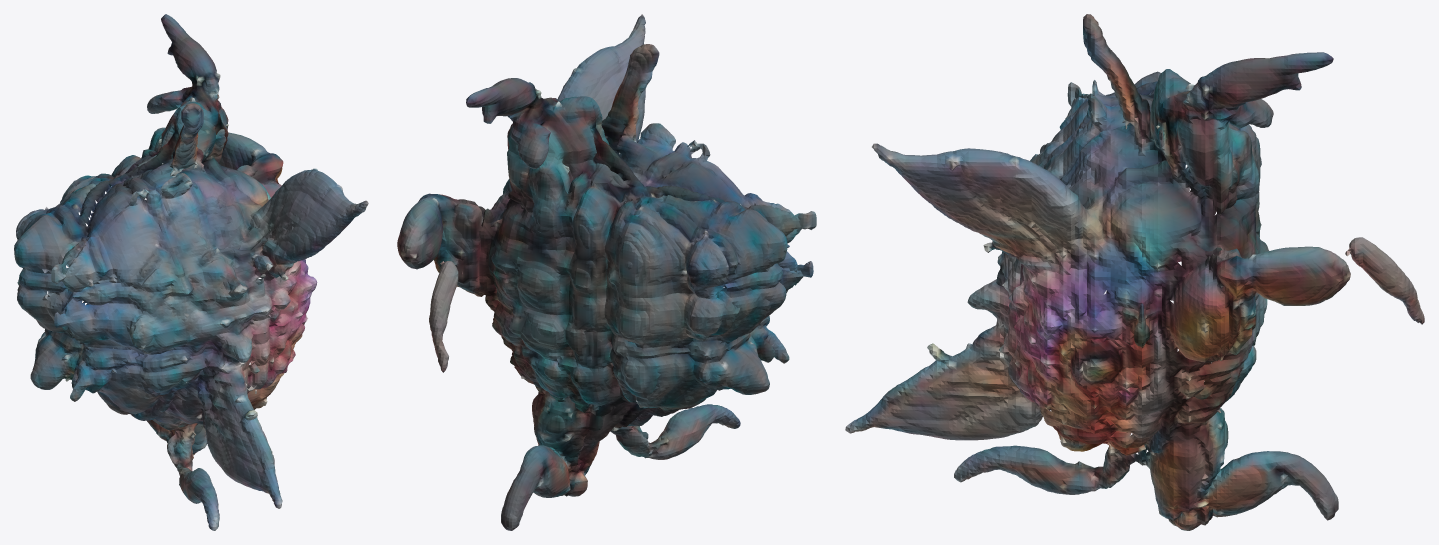
File: crab.glb
3 renders of one model, left to right at view 1: azimuth 30°, elevation 25°; view 2: azimuth 150°, elevation 25°; view 3: azimuth 270°, elevation 25°, orthographic. The views are drawn at different scales.
Visible parts, largest first — view 1: world; view 2: world; view 3: world.
Boxes of the visible parts, x1=… form: world: x1=14, y1=14, x2=368, y2=530; world: x1=397, y1=14, x2=816, y2=530; world: x1=845, y1=14, x2=1424, y2=530.
Bounding box in the file's own units: 0.7569 × 0.9486 × 0.9983.
